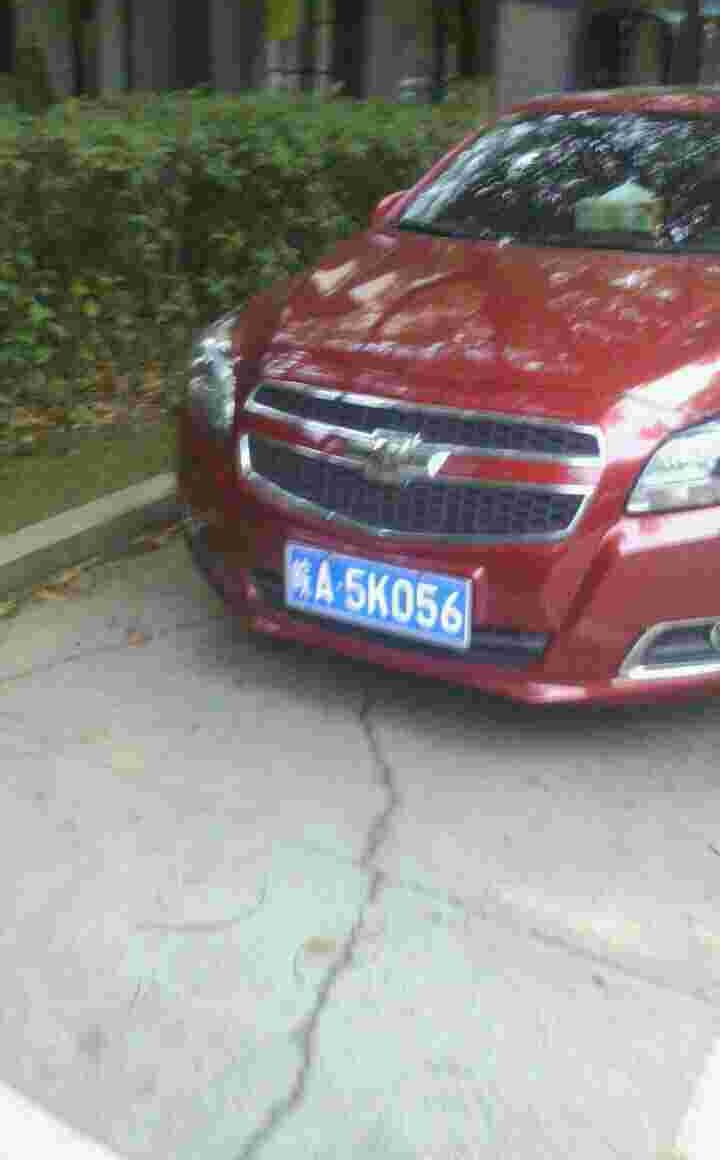plate: (284, 538, 472, 650)
